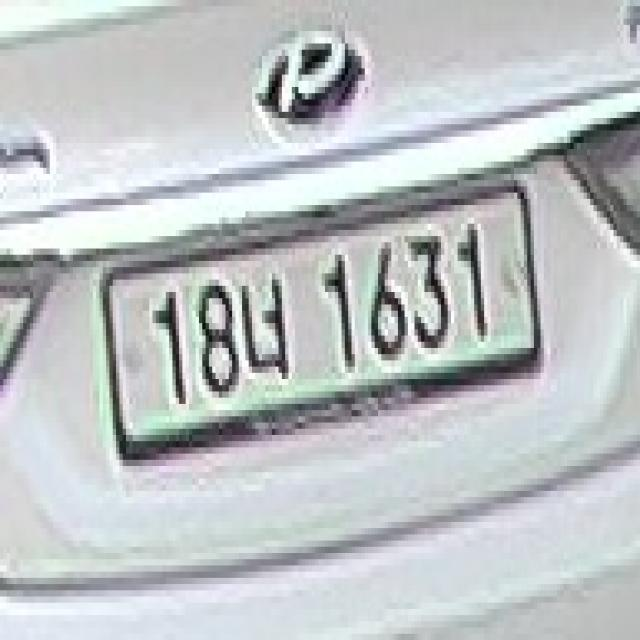1: (318, 242, 362, 392), (451, 217, 494, 348), (153, 274, 189, 416)
3: (408, 217, 448, 348)
6: (365, 230, 408, 373)
8: (196, 267, 238, 416)
license_plate: (96, 162, 554, 484)
neo: (239, 261, 292, 398)
